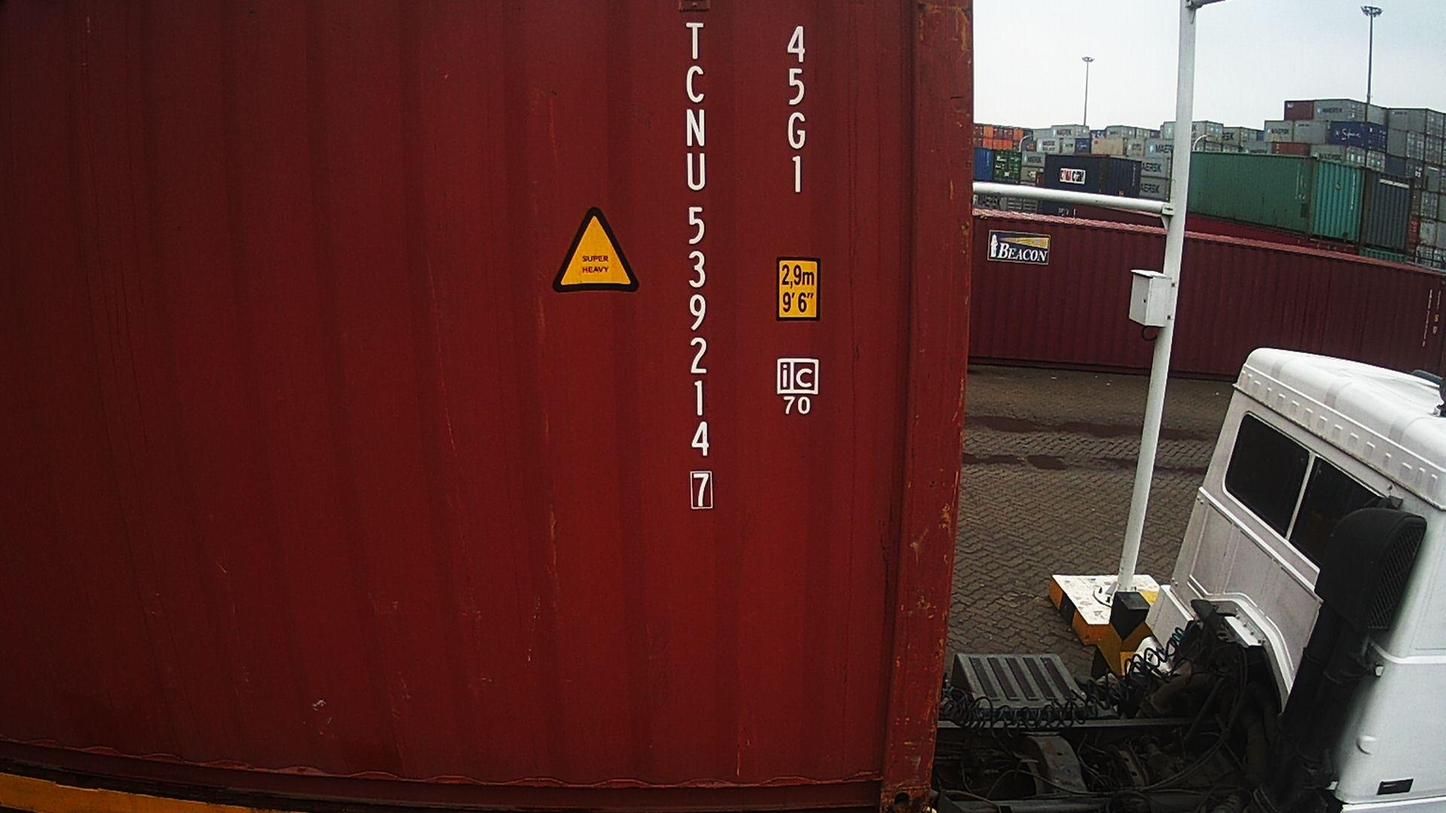container-numbers: (678, 17, 715, 519), (781, 22, 815, 198)
